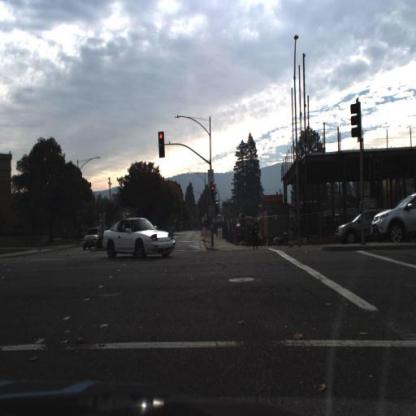car: (100, 216, 178, 259), (369, 186, 416, 245), (335, 206, 384, 246), (82, 227, 100, 250), (149, 226, 161, 240)
pedestrian: (252, 220, 262, 251), (289, 217, 295, 246)
trafficLight-Red: (159, 133, 165, 159), (212, 185, 217, 202)
